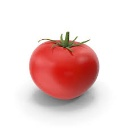tomato: (30, 40, 99, 99)
